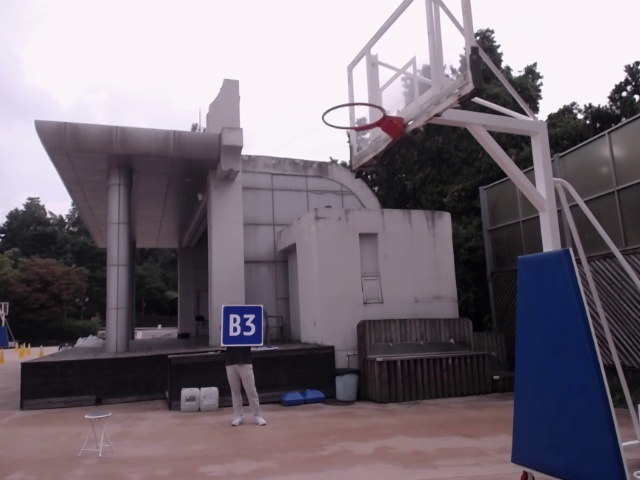delivery_b3: (221, 304, 263, 346)
